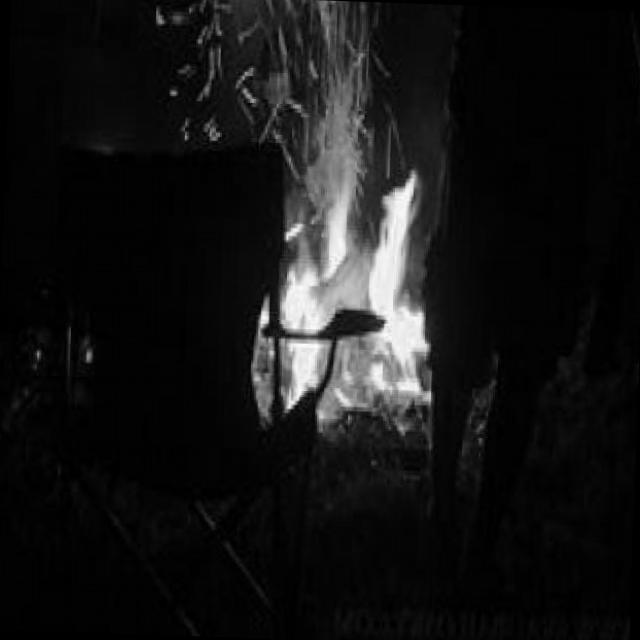fire: (267, 158, 437, 426)
